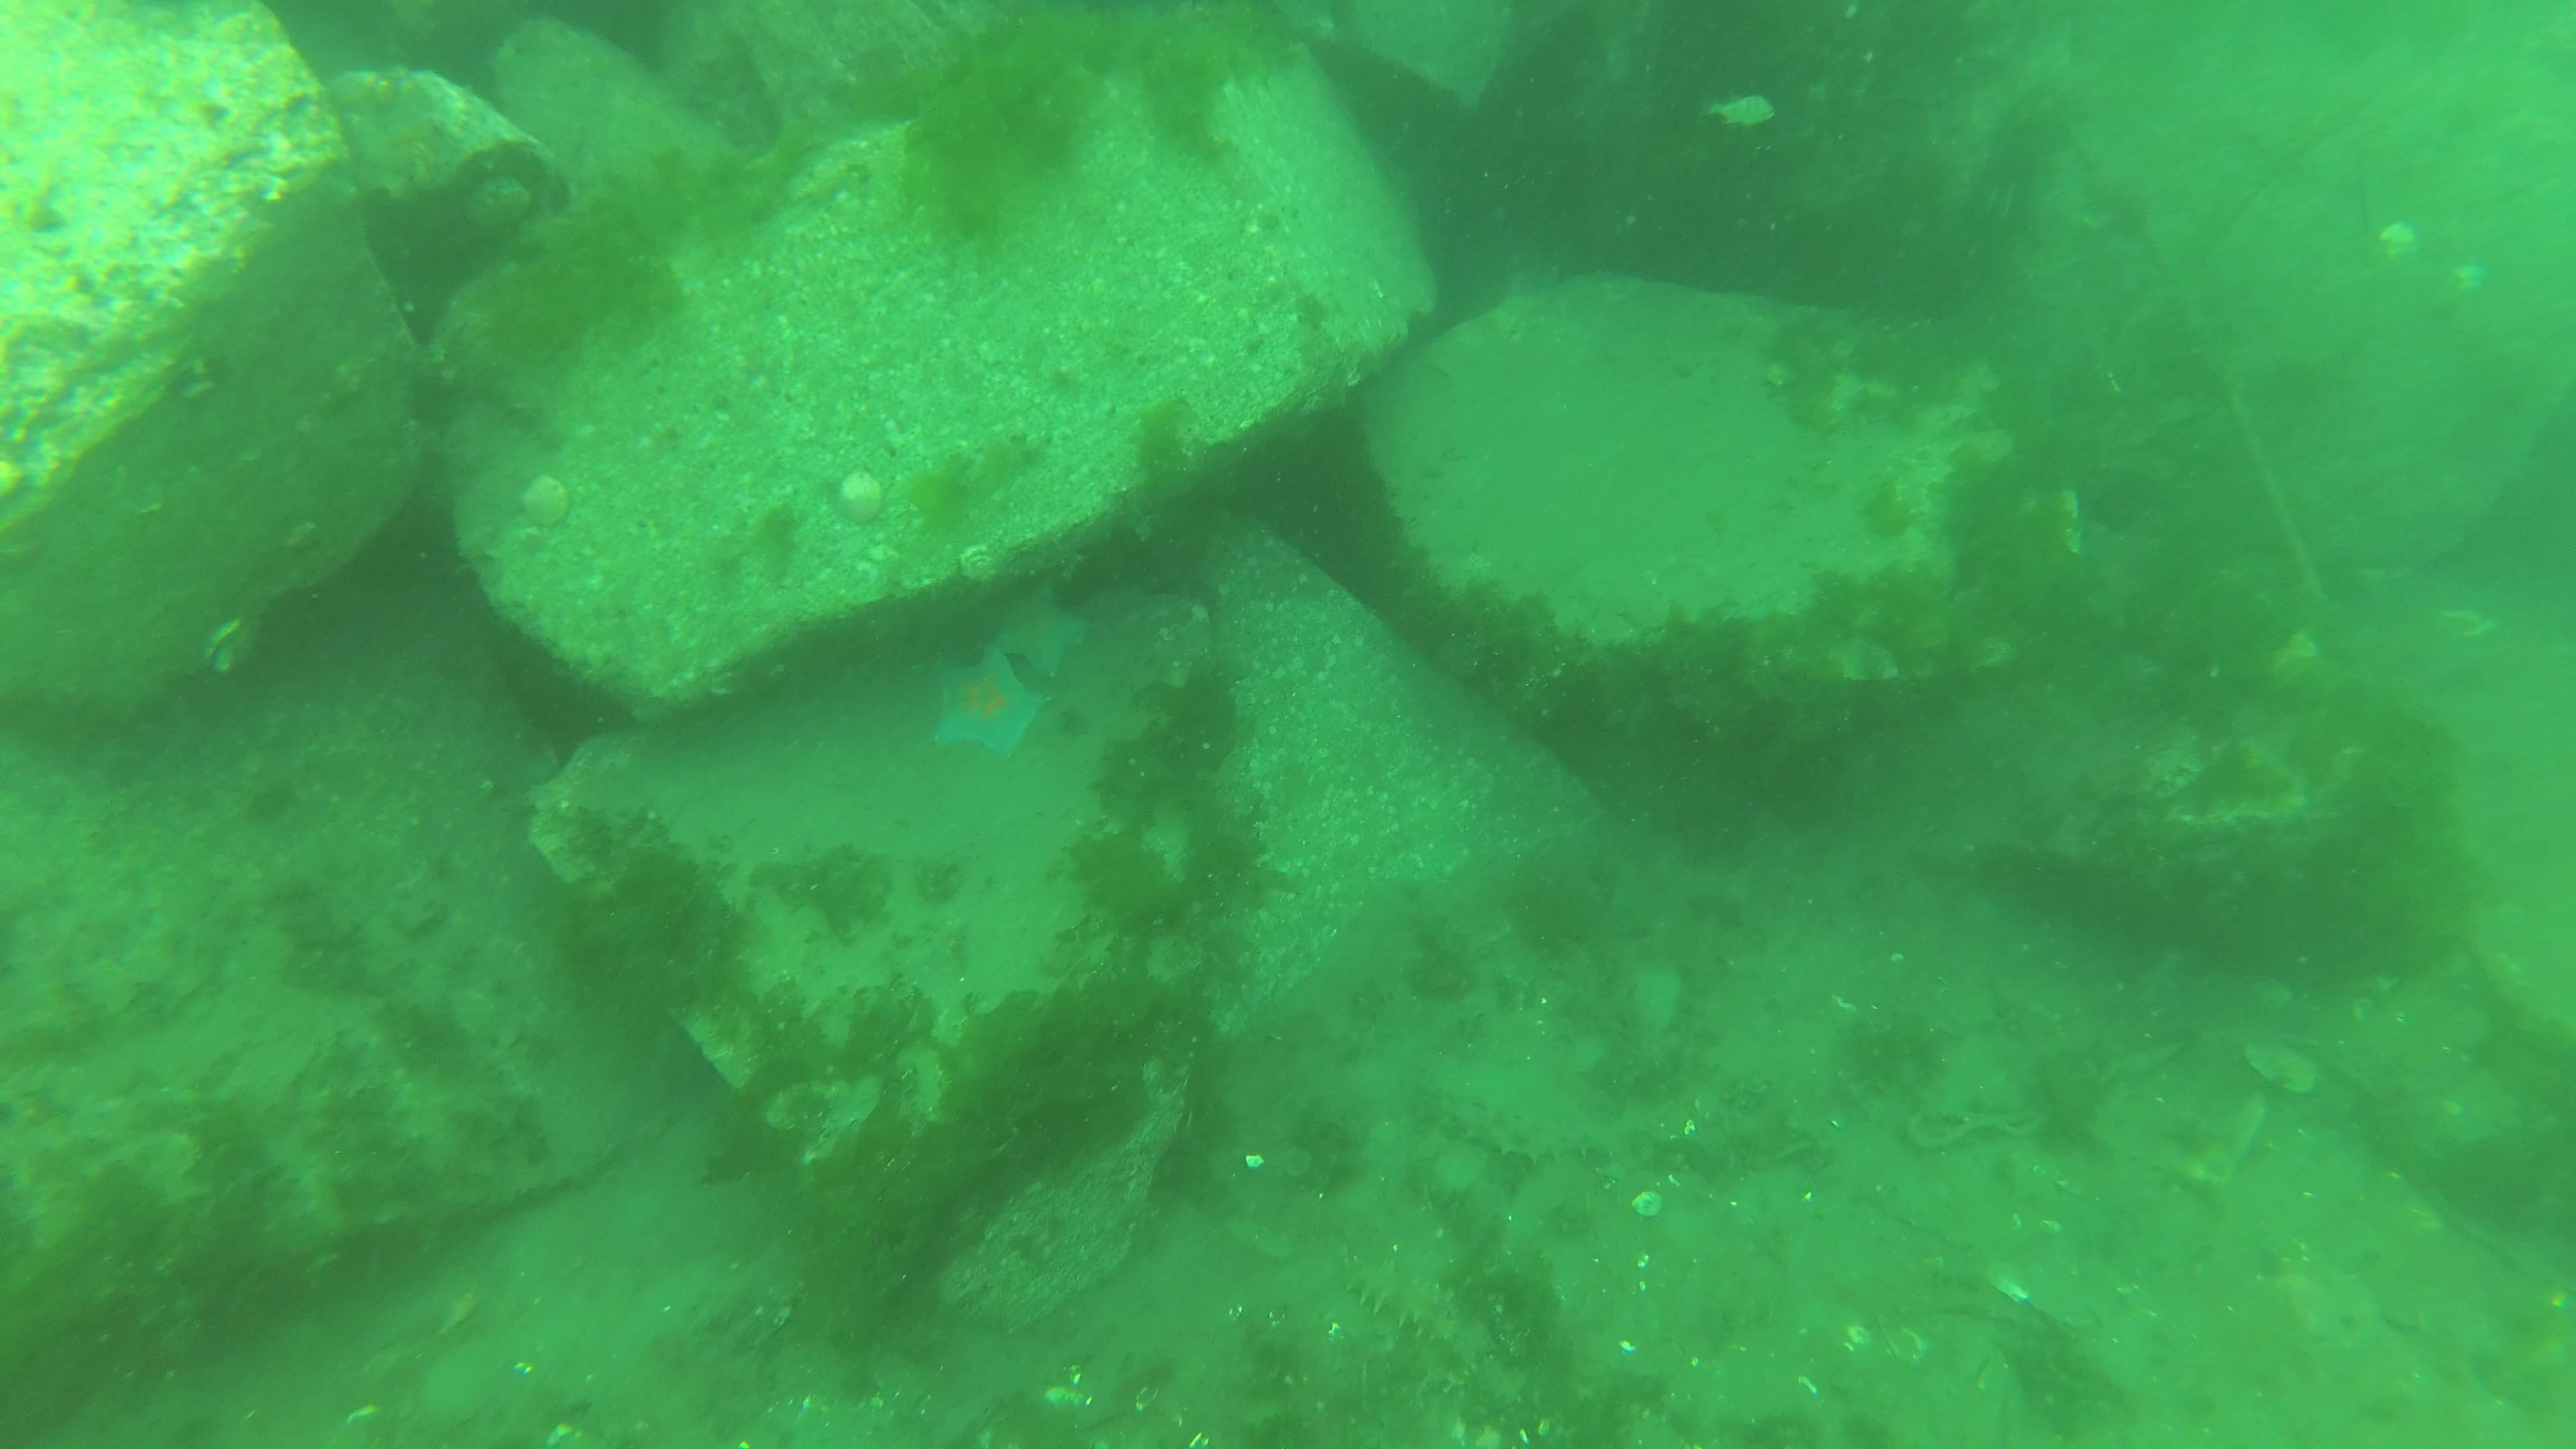holothurian: (1332, 1231, 1468, 1352), (1433, 1086, 1622, 1169)
starfish: (918, 639, 1056, 763), (973, 566, 1102, 674)
